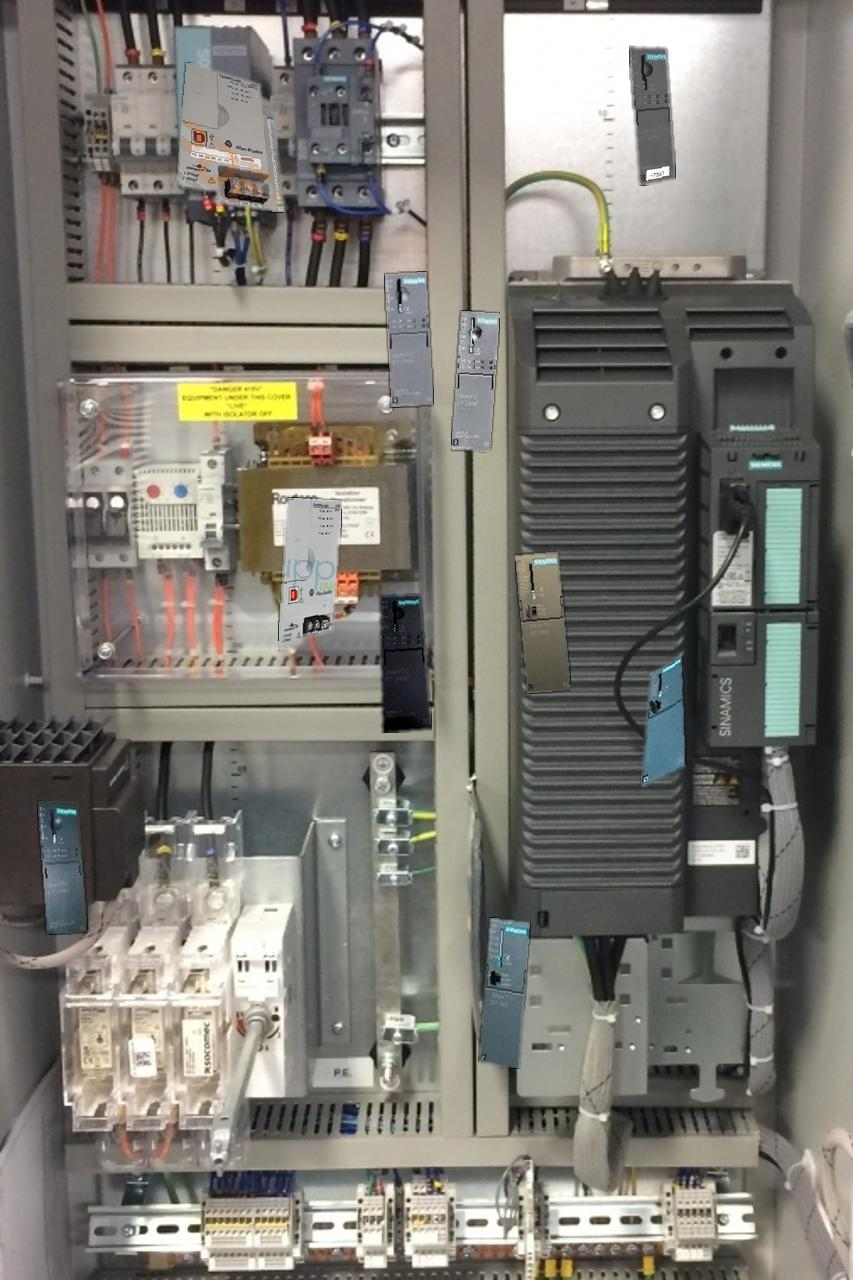AllenBradley: (177, 62, 284, 212), (278, 498, 341, 649)
Siemens: (515, 552, 570, 693), (479, 918, 529, 1067), (641, 655, 685, 786)
